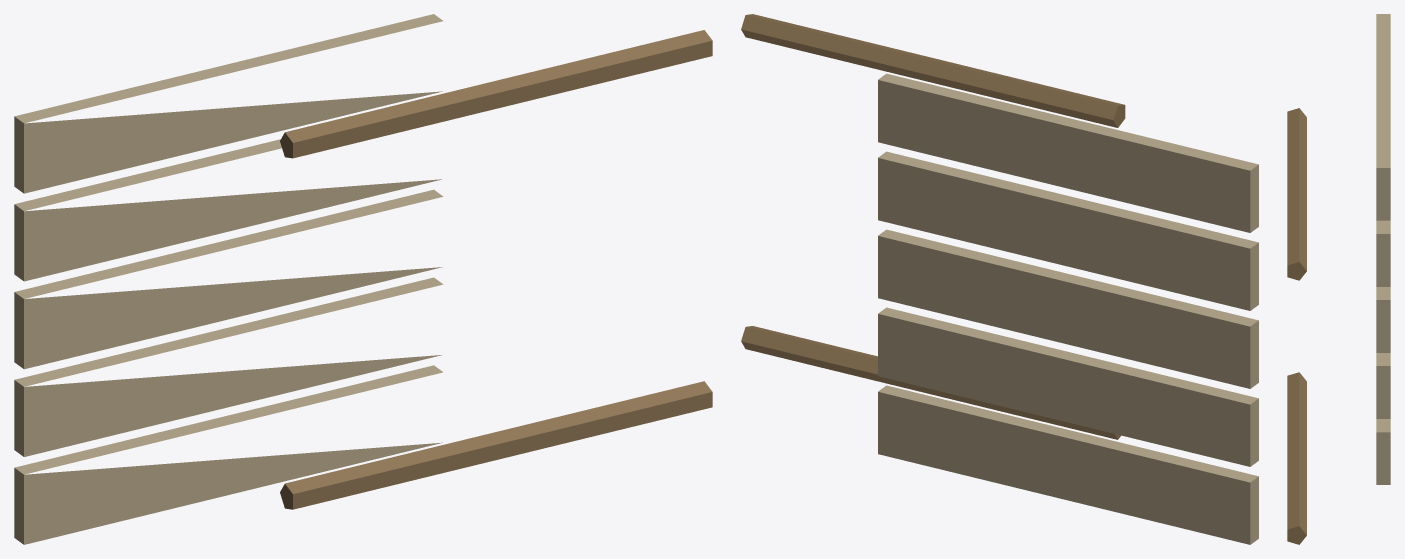
The model's file is wooden_bridge.glb.
3 renders of one model, left to right at view 1: azimuth 30°, elevation 25°; view 2: azimuth 150°, elevation 25°; view 3: azimuth 270°, elevation 25°, orthographic. The views are drawn at different scales.
Visible parts, largest first — view 1: geometry_0; view 2: geometry_0; view 3: geometry_0.
Boxes of the visible parts, x1,y1,x2,y2 form: geometry_0: (14, 14, 712, 544); geometry_0: (741, 14, 1258, 544); geometry_0: (1287, 14, 1390, 544).
Size of the model in its own units: 0.75 by 0.48 by 0.1421.
